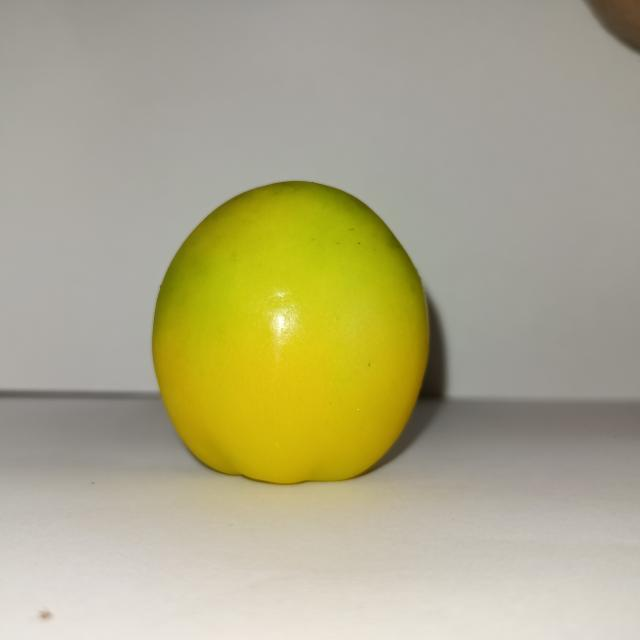Red: (150, 178, 431, 485)
